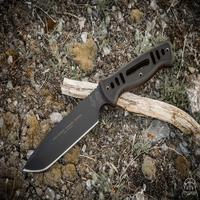knife: (16, 46, 172, 180)
